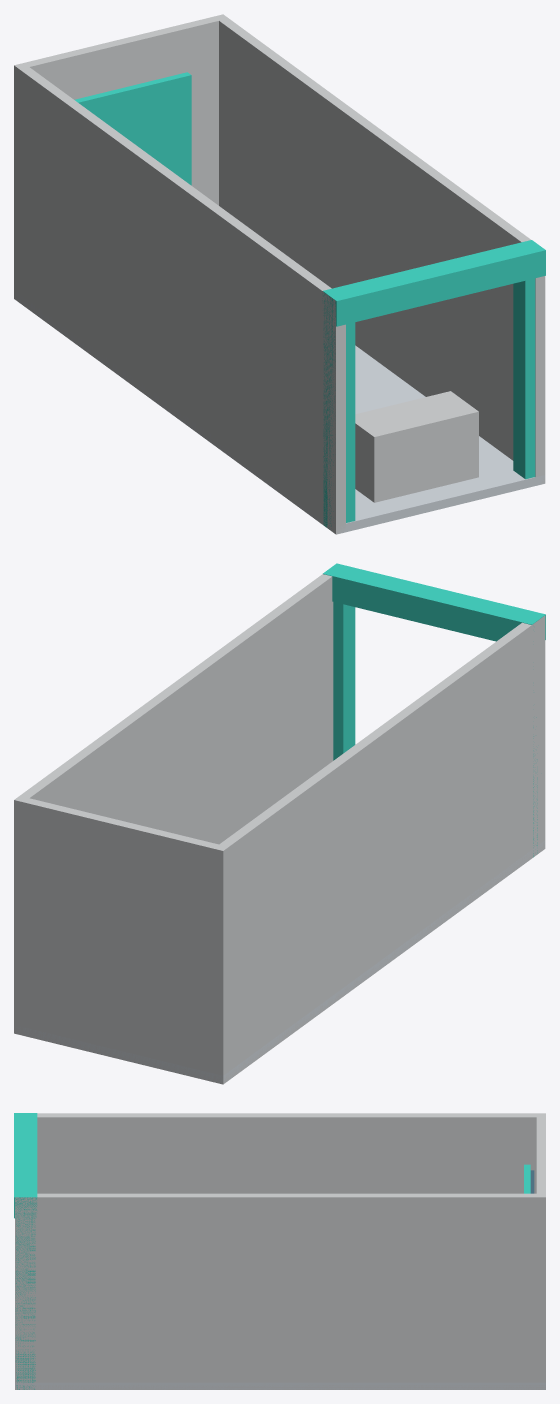
3 views of the same model, one above another, from view 1: azimuth 30°, elevation 25°; view 2: azimuth 150°, elevation 25°; view 3: azimuth 270°, elevation 25° (orthographic). The views are drawn at different scales.
Parts seen in each view (by area): view 1: Exhibition Booth Concept; view 2: Exhibition Booth Concept; view 3: Exhibition Booth Concept.
Part boxes in pixels (left/top/right/bottom): Exhibition Booth Concept: left=14, top=14, right=545, bottom=534; Exhibition Booth Concept: left=14, top=563, right=545, bottom=1084; Exhibition Booth Concept: left=14, top=1113, right=545, bottom=1389.
Size of the model in its own units: 3 by 3.2 by 8.01.
